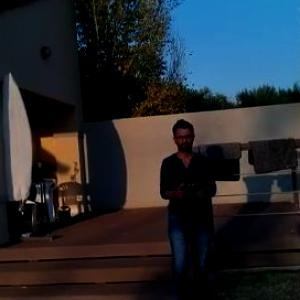follow: (153, 111, 221, 299)
